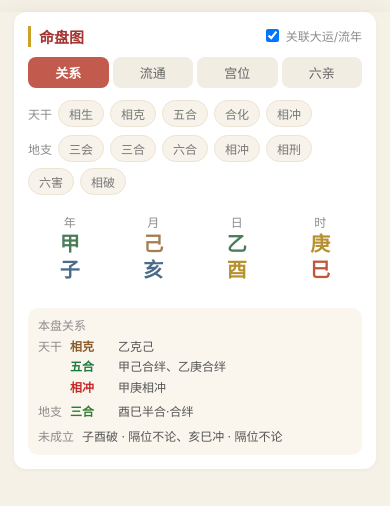
Test: 关系 tab › shows 相冲 edge between 甲 and 庚 after selecting 相冲
Click the button with test id "filter-gan-冲".
click(289, 114)  # box [266,100,312,127]
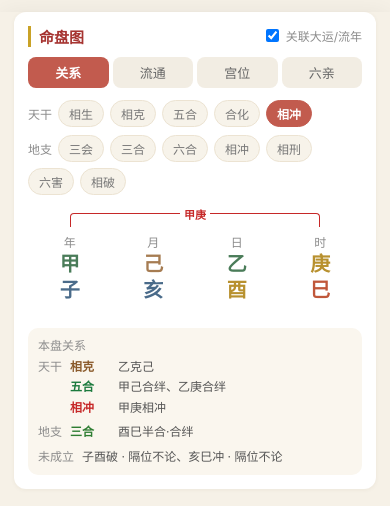
Expected: the element showing "甲庚" is shown, [70,213,320,227]
